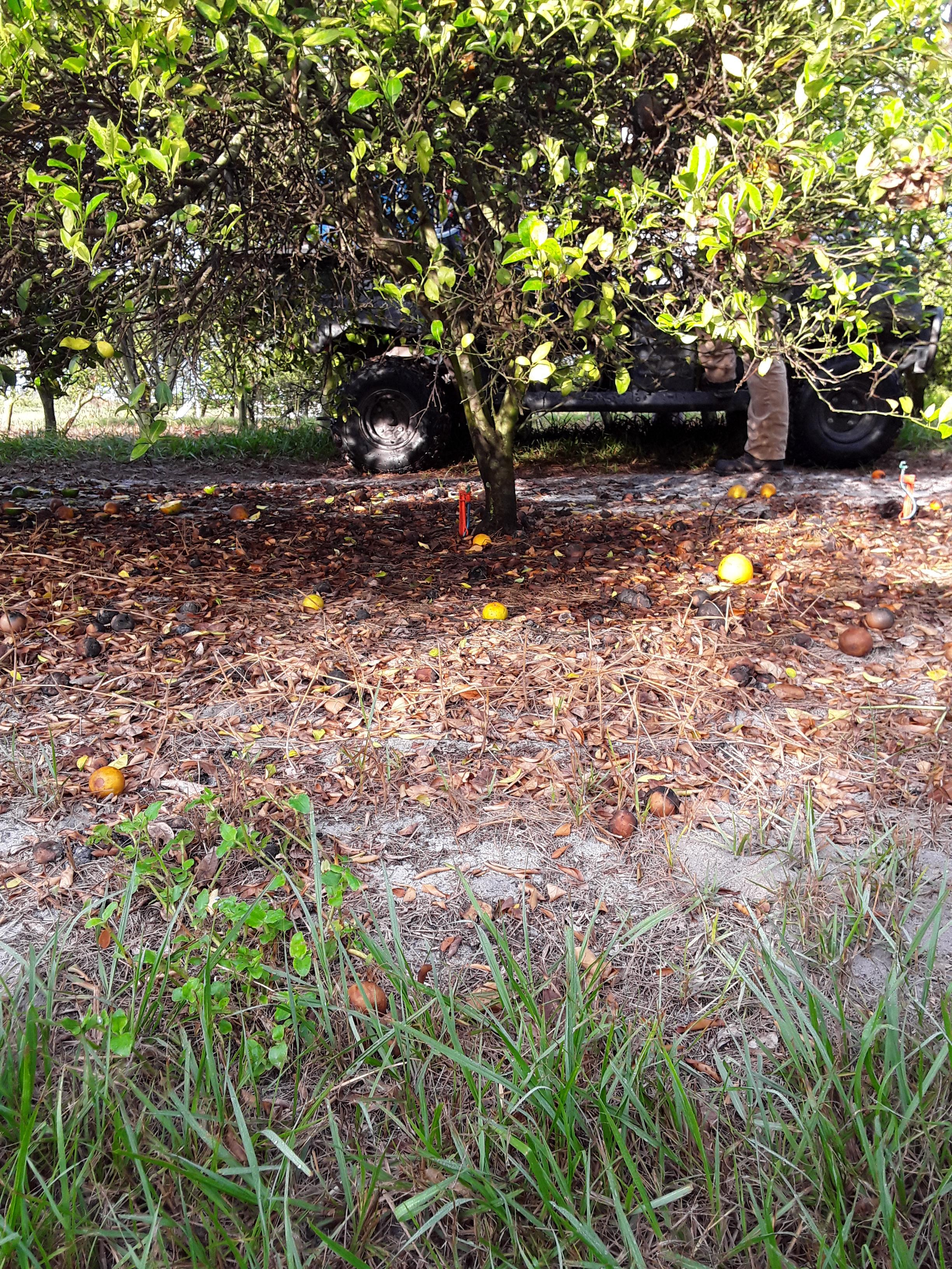fruit_on_ground: (630, 89, 672, 149), (450, 43, 497, 83), (743, 154, 787, 190)
fruit_on_tree: (343, 979, 391, 1020), (711, 552, 760, 589), (640, 778, 682, 821), (596, 806, 638, 844), (839, 625, 888, 654), (867, 599, 900, 636), (724, 654, 758, 686), (91, 766, 127, 794), (0, 609, 31, 638), (481, 597, 513, 623), (299, 590, 328, 617), (726, 480, 756, 505), (37, 671, 71, 693), (412, 668, 446, 689), (559, 542, 591, 563), (76, 636, 105, 658), (93, 603, 120, 626), (698, 601, 727, 621), (311, 578, 338, 599), (468, 532, 501, 549), (109, 612, 137, 631), (688, 588, 713, 608), (158, 499, 187, 516), (757, 477, 778, 500), (228, 503, 249, 526), (176, 620, 196, 644), (54, 504, 79, 523), (632, 592, 654, 613), (327, 681, 352, 699), (98, 499, 121, 518), (614, 586, 639, 603), (697, 572, 718, 591), (177, 602, 205, 616), (942, 635, 952, 671), (672, 516, 691, 534), (325, 668, 346, 684), (187, 555, 207, 571), (873, 466, 889, 484), (12, 486, 30, 501), (61, 486, 83, 498), (355, 607, 372, 622), (1, 500, 20, 513), (928, 498, 945, 512), (635, 546, 649, 561), (634, 583, 650, 594)
